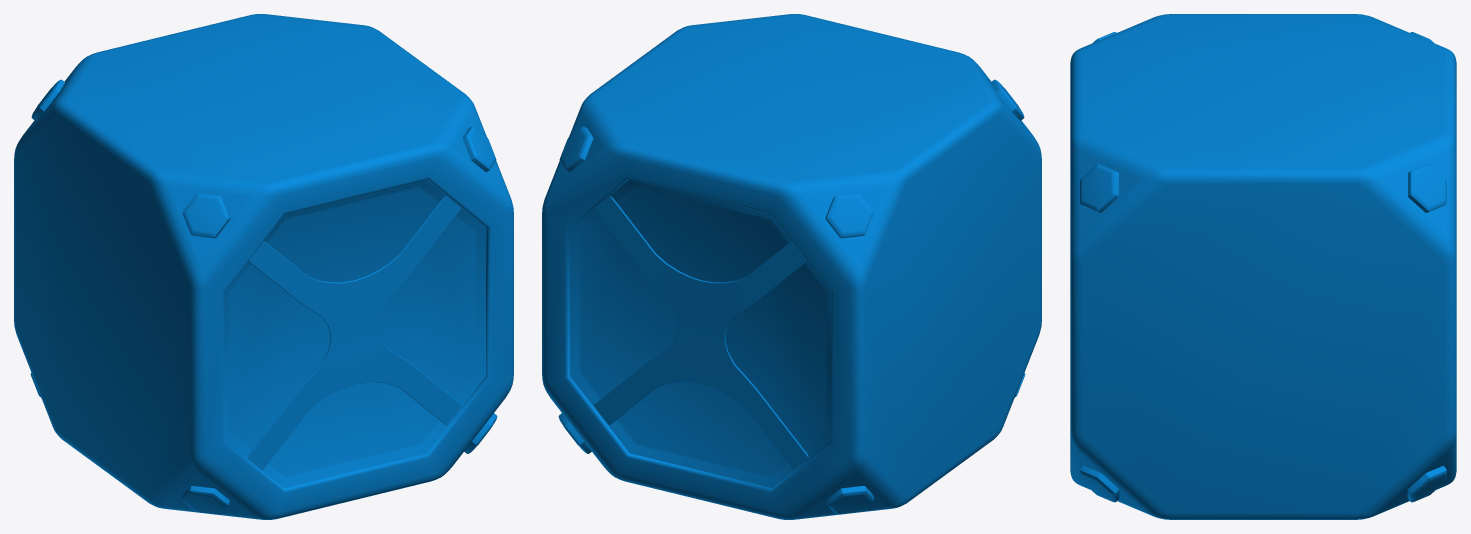
The picture shows the model from 3 angles, left to right: view 1: azimuth 30°, elevation 25°; view 2: azimuth 150°, elevation 25°; view 3: azimuth 270°, elevation 25°; orthographic projection. The views are drawn at different scales.
Visible parts, largest first — view 1: SM_Box01; view 2: SM_Box01; view 3: SM_Box01.
Part boxes in pixels (bbox=[...]): SM_Box01: bbox=[14, 14, 513, 519]; SM_Box01: bbox=[542, 14, 1041, 519]; SM_Box01: bbox=[1070, 14, 1456, 519].
Bounding box in the file's own units: 50 × 50 × 50.
